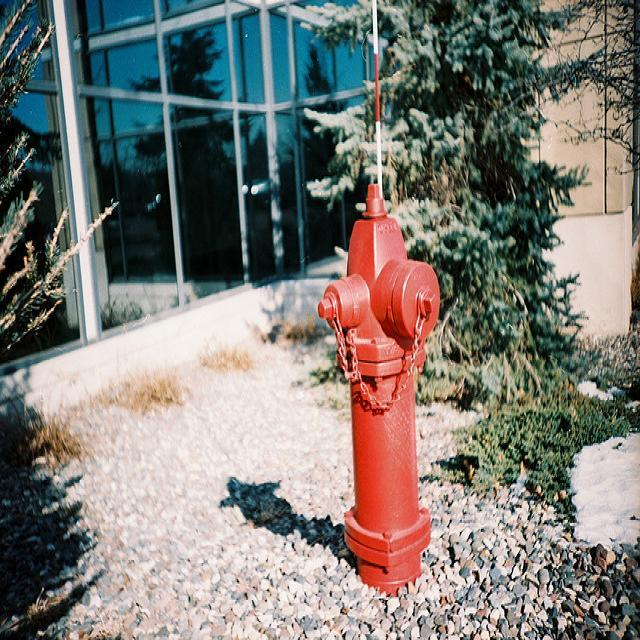fire_hydrant: (318, 180, 438, 600)
